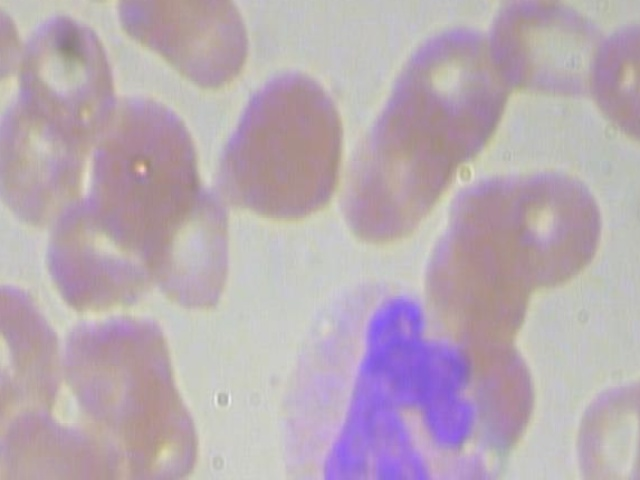RBC: (217, 67, 351, 233), (482, 0, 618, 123), (30, 182, 149, 318), (494, 159, 606, 288), (13, 6, 116, 140), (137, 177, 240, 311), (570, 372, 640, 480), (590, 16, 640, 157), (114, 0, 224, 57), (526, 473, 640, 480)
WBC: (263, 269, 529, 480)
